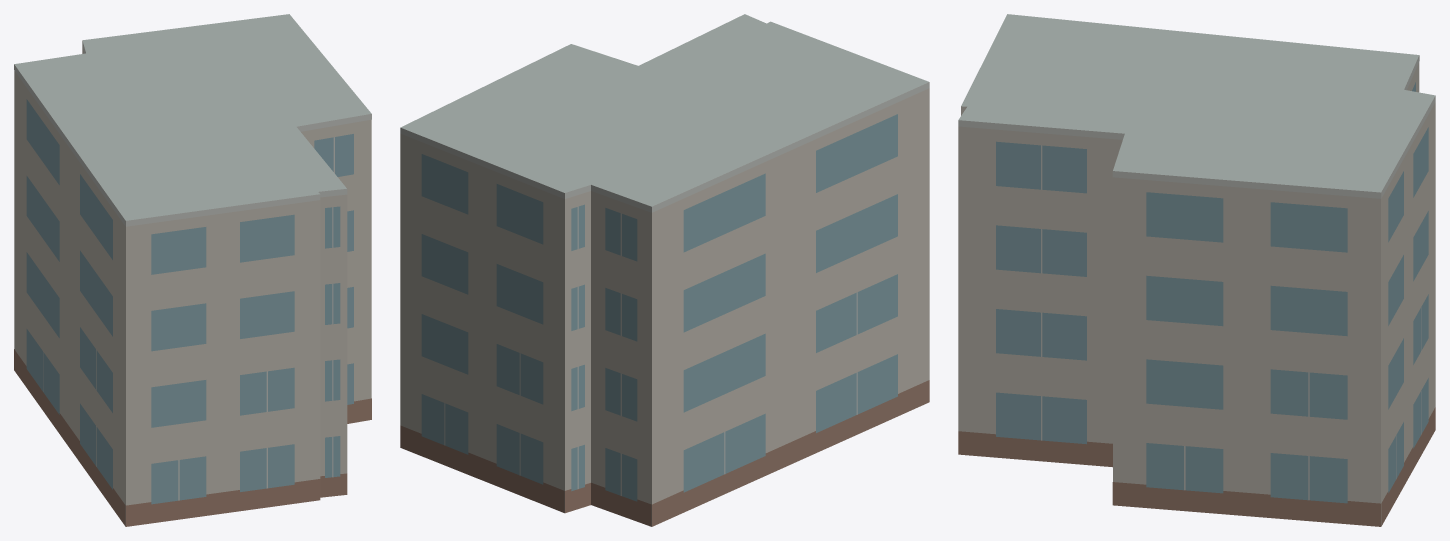
Rendered from survey-upis-32957669.glb.
The picture shows the model from 3 angles, left to right: view 1: azimuth 30°, elevation 25°; view 2: azimuth 150°, elevation 25°; view 3: azimuth 270°, elevation 25°; orthographic projection. The views are drawn at different scales.
Parts seen in each view (by area): view 1: survey-upis-32957669.tmp; view 2: survey-upis-32957669.tmp; view 3: survey-upis-32957669.tmp.
Boxes of the visible parts, x1,y1,x2,y2 form: survey-upis-32957669.tmp: (14,14,371,526); survey-upis-32957669.tmp: (400,14,929,526); survey-upis-32957669.tmp: (958,14,1435,526).
Bounding box in the file's own units: 14.66 × 12.8 × 16.57.
